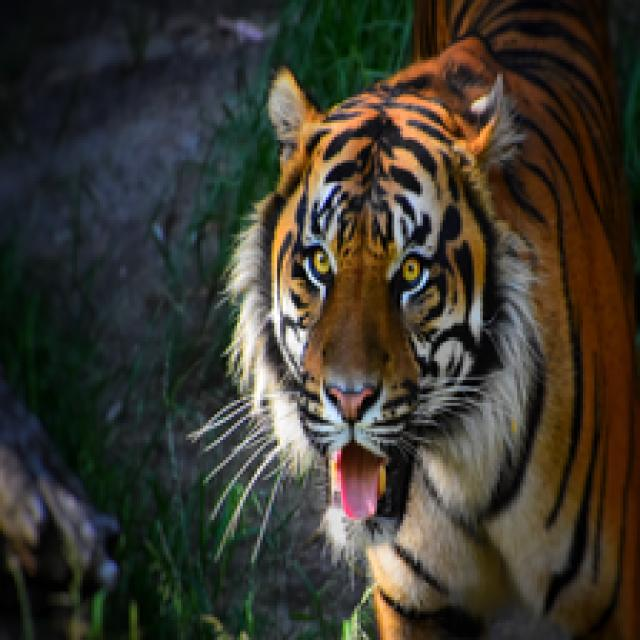tiger: (215, 5, 640, 640)
